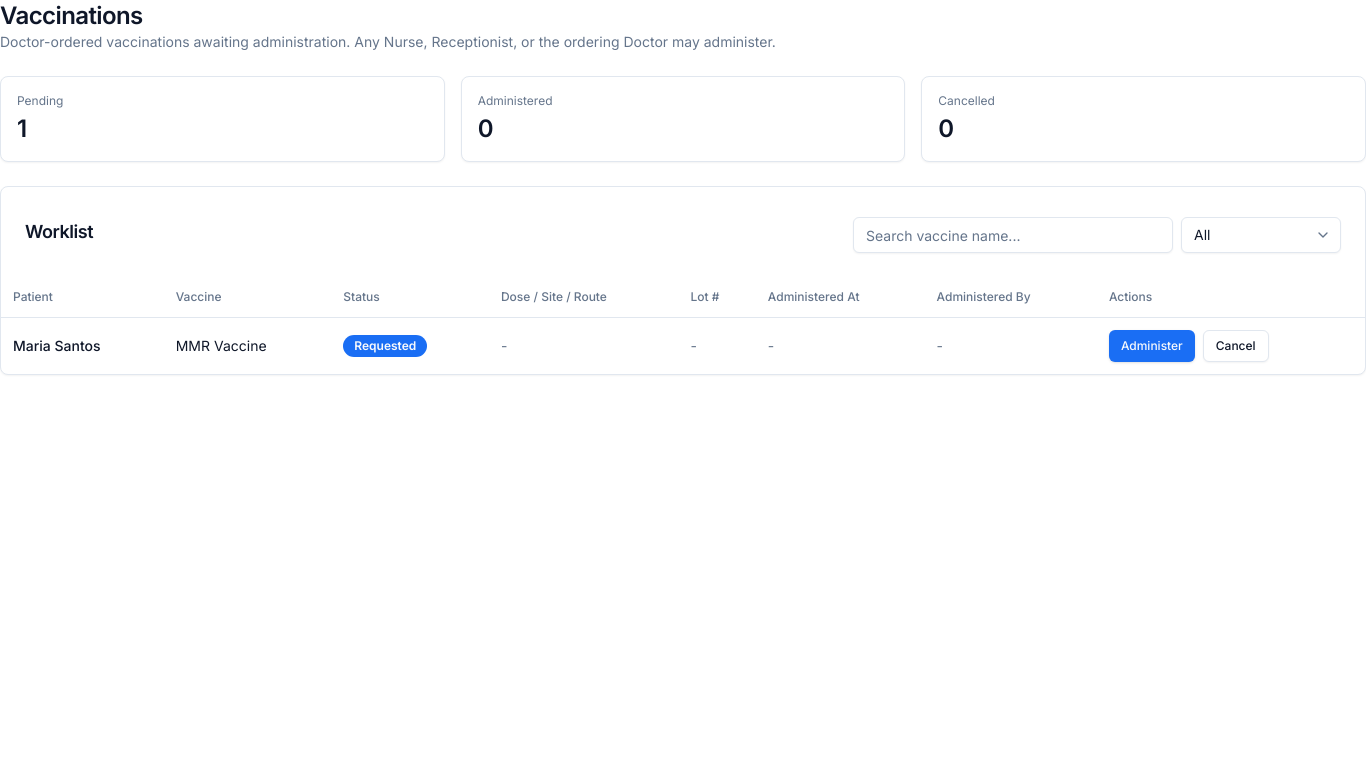
Scenario: VaccinationsPage › shows the patient name in the Administer dialog
Click the button "Administer": (1152, 346) [1109,330,1195,362]
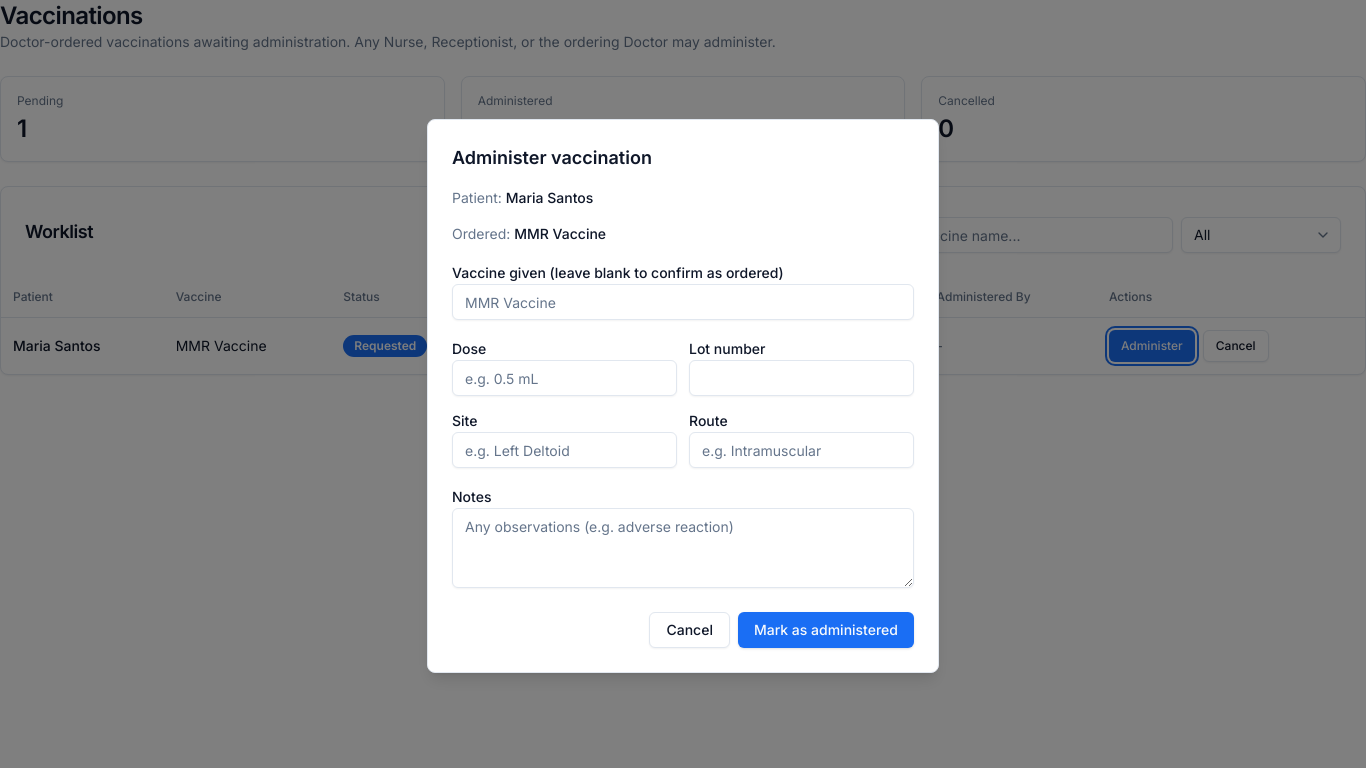
Check: the text "Maria Santos" is shown, box [506,189,593,206]
Check: the text "Patient: Maria Santos" is shown, box [452,189,593,206]
